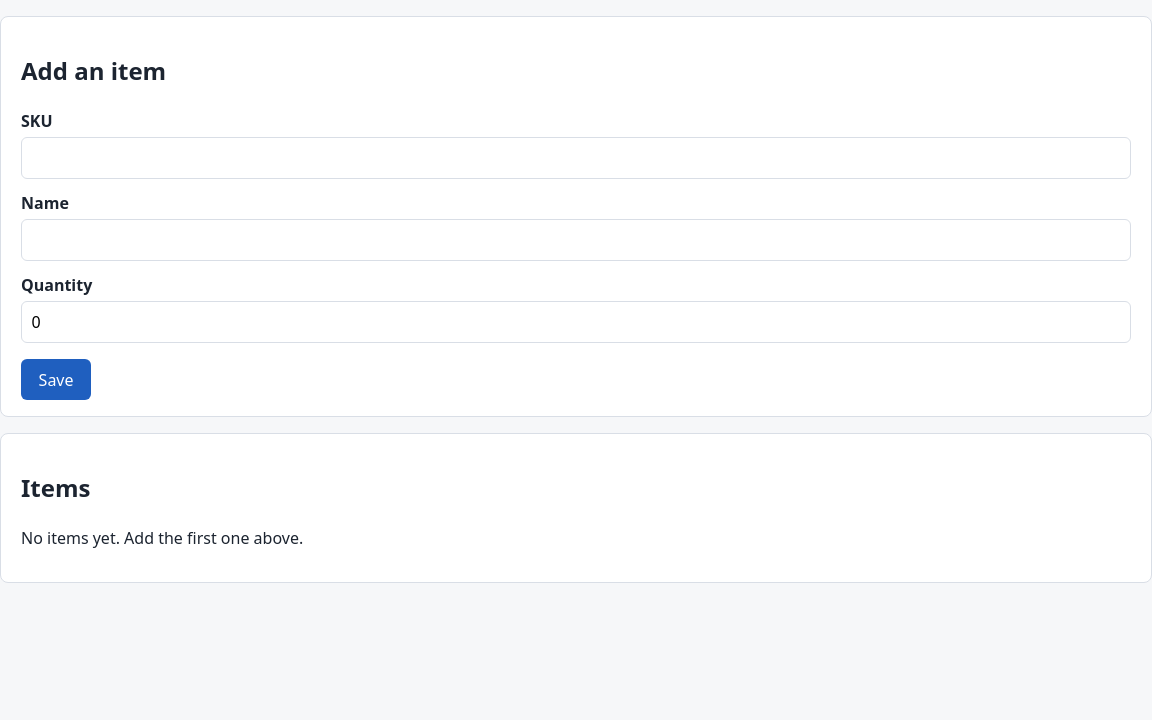
Test: ItemsPage › shows a plain message when saving fails with status 409
Expected: the text "No items yet. Add the first one above." is shown, [21,527,303,549]
In the field labelled "SKU": (576, 158) [21,137,1131,179], type "BOLT-1"
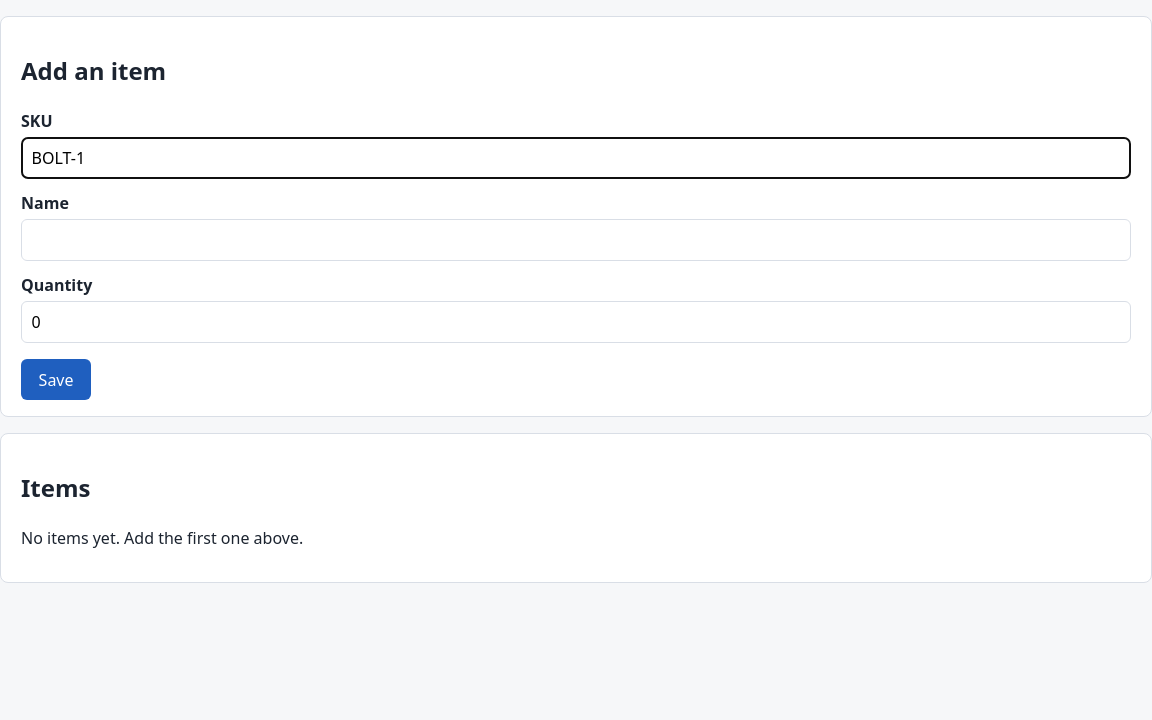
In the field labelled "Name": (576, 240) [21,219,1131,261], type "Hex bolt"
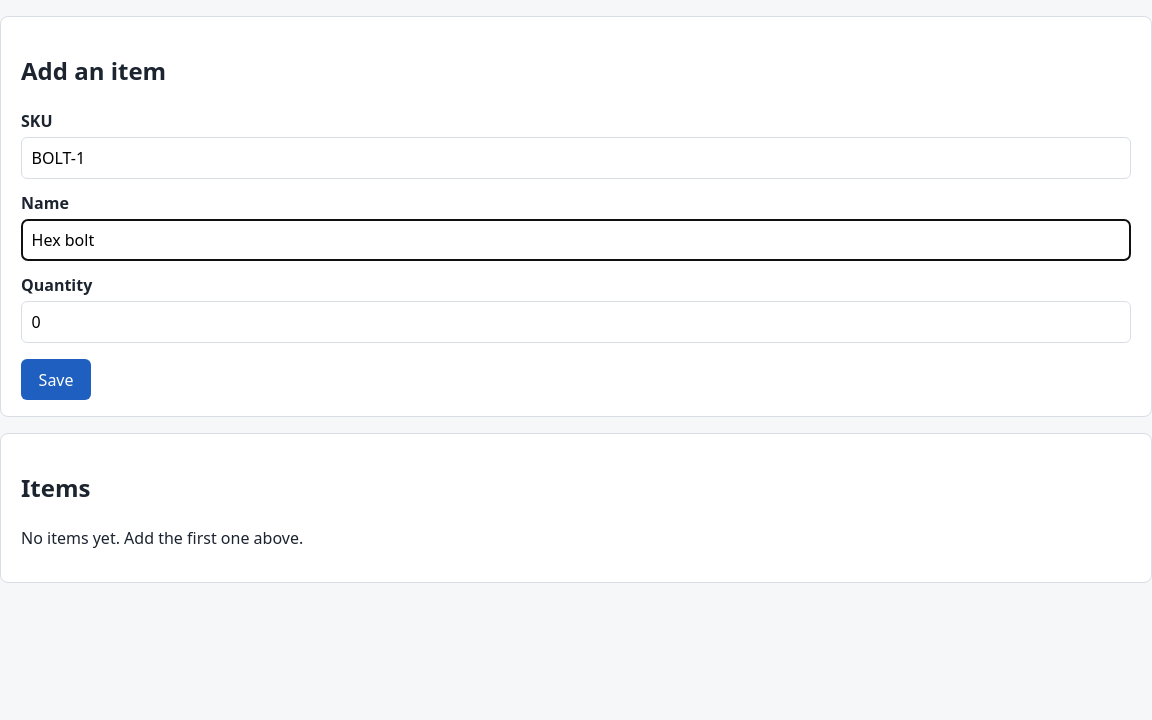
Click the button "Save": (56, 380) [21,359,91,400]
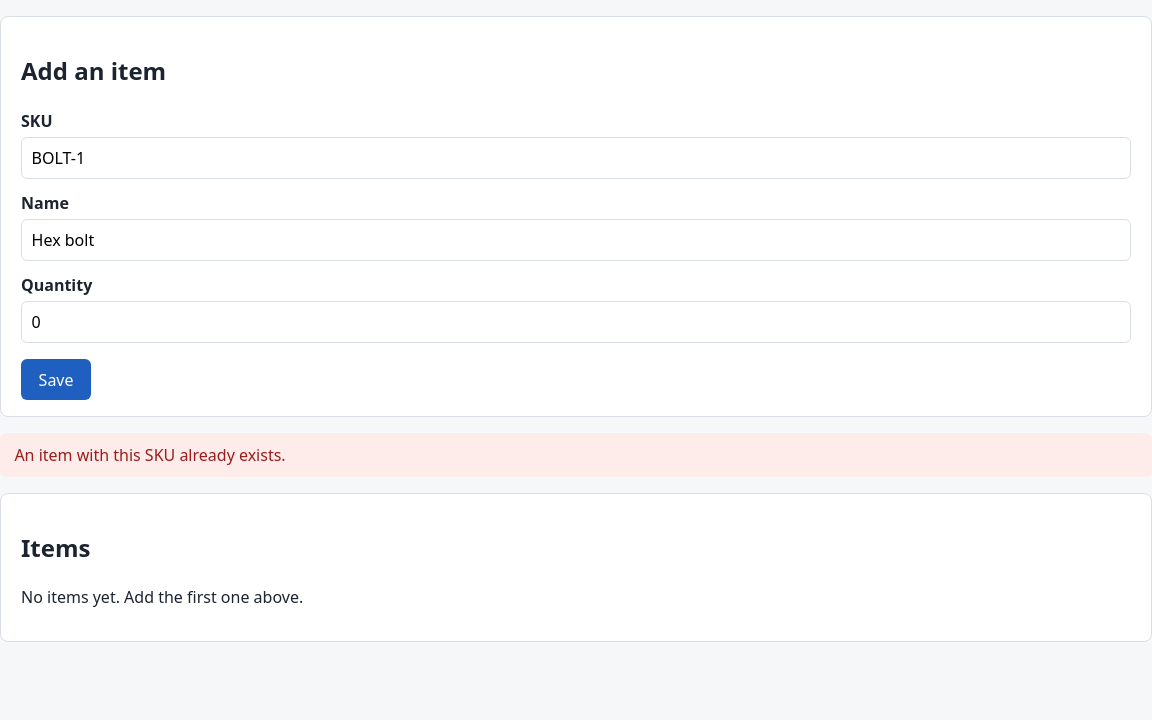
Expected: the text "An item with this SKU already exists." is shown, [0,433,1151,477]
